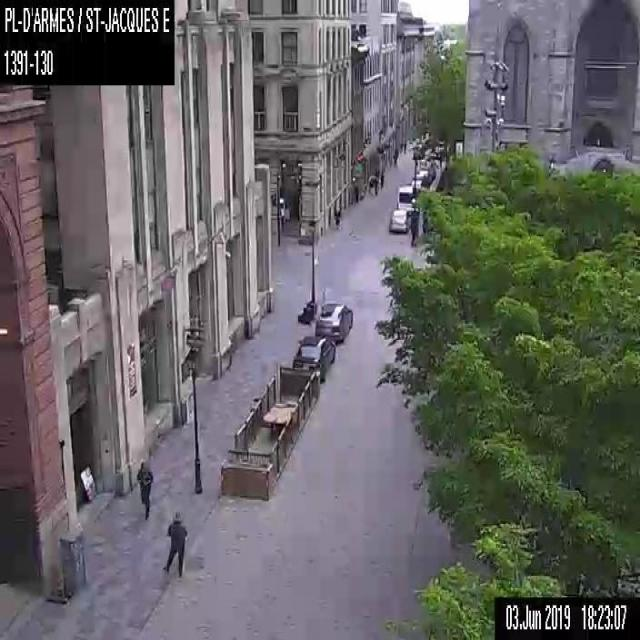pedestrian: (162, 511, 187, 576), (136, 460, 152, 520), (334, 203, 341, 229), (379, 171, 384, 188)
vehicle: (291, 334, 335, 382), (314, 302, 352, 342), (396, 184, 414, 214), (388, 207, 408, 233), (417, 152, 436, 177), (412, 174, 427, 188), (417, 169, 431, 182), (409, 179, 422, 192)
